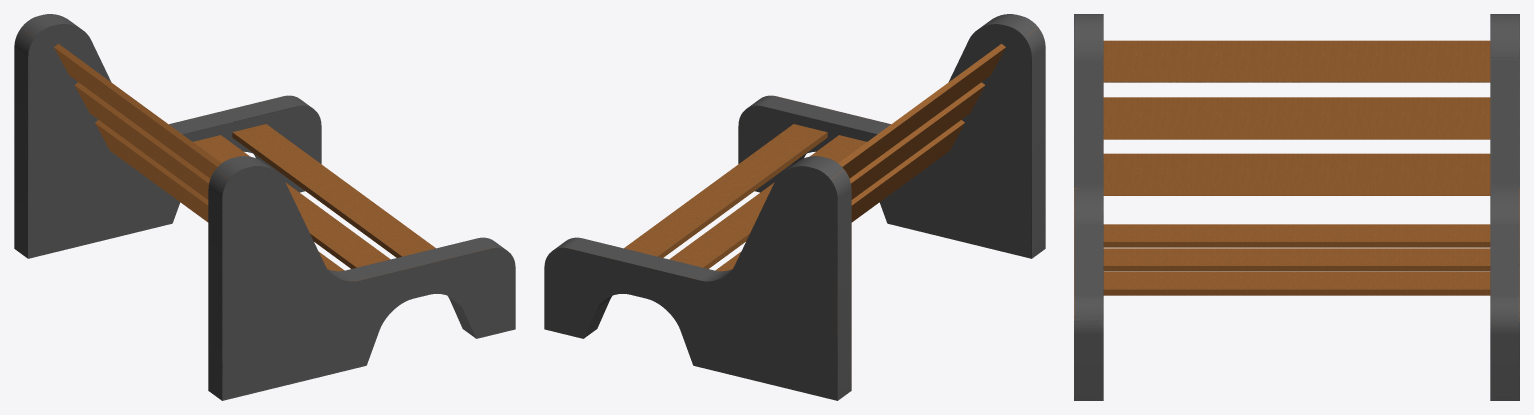
Rendered from Banco Vertical Unity.fbx.
3 views of the same model, side by side, from view 1: azimuth 30°, elevation 25°; view 2: azimuth 150°, elevation 25°; view 3: azimuth 270°, elevation 25° (orthographic). The views are drawn at different scales.
Visible parts, largest first — view 1: Cube; view 2: Cube; view 3: Cube.
Part boxes in pixels (box(x1,y1,x2,y2)): Cube: box(14, 14, 515, 400); Cube: box(544, 14, 1045, 400); Cube: box(1074, 14, 1519, 400).
Size of the model in its own units: 116 by 85.8 by 142.
